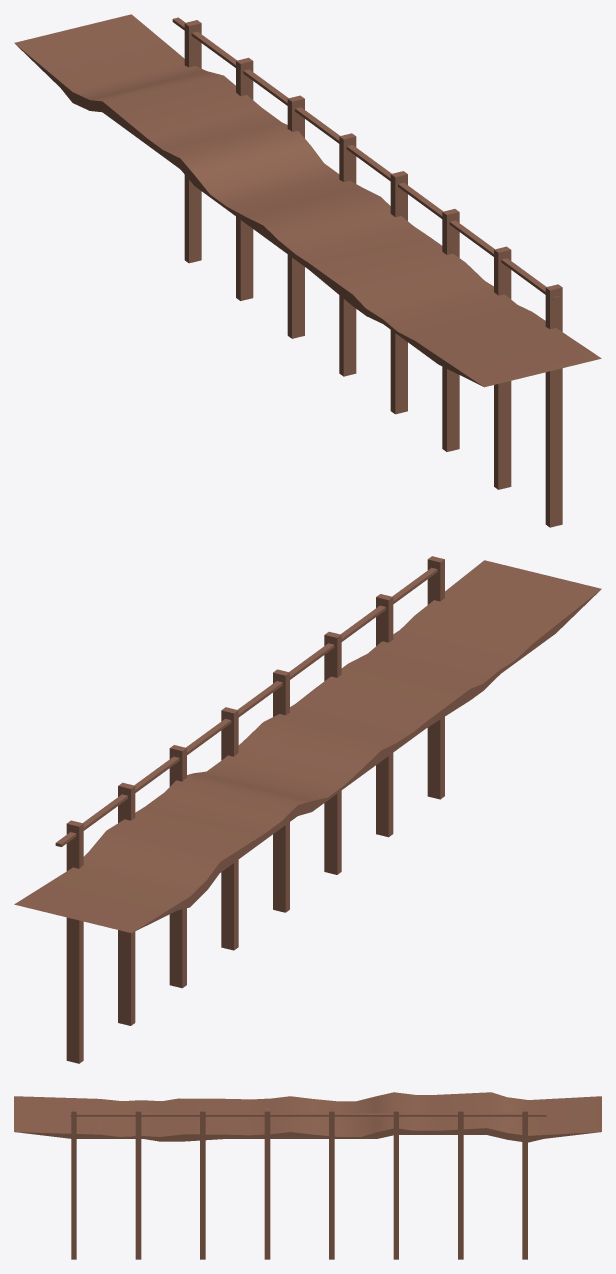
The model's file is bridge.fbx.
The picture shows the model from 3 angles, top to bottom: view 1: azimuth 30°, elevation 25°; view 2: azimuth 150°, elevation 25°; view 3: azimuth 270°, elevation 25°; orthographic projection. The views are drawn at different scales.
Visible parts, largest first — view 1: polySurface1; view 2: polySurface1; view 3: polySurface1.
Boxes of the visible parts, box(x1,y1,x2,y2) form: polySurface1: box(14, 14, 601, 527); polySurface1: box(14, 556, 601, 1063); polySurface1: box(14, 1092, 601, 1259).
Size of the model in its own units: 4.17 by 7.61 by 27.36.
